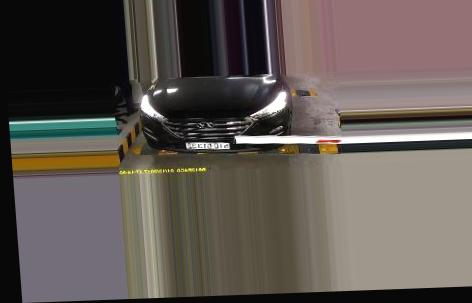License_Plate: (185, 139, 234, 154)
